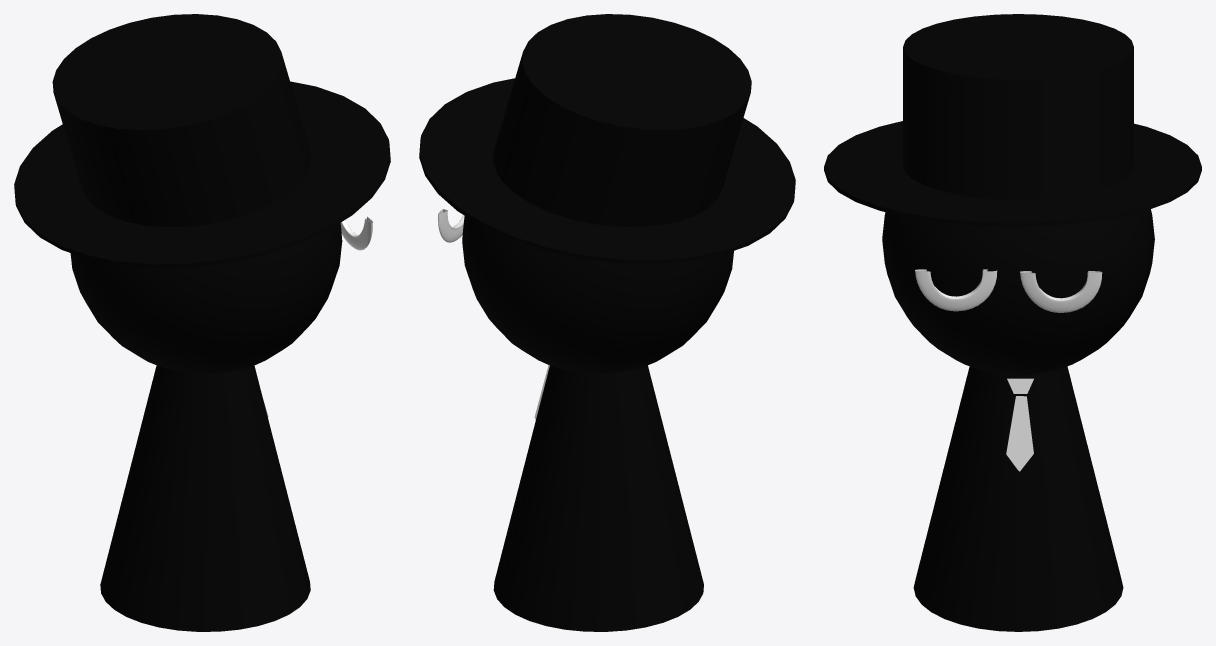
Rendered from sprunki__black.glb.
3 renders of one model, left to right at view 1: azimuth 30°, elevation 25°; view 2: azimuth 150°, elevation 25°; view 3: azimuth 270°, elevation 25°, orthographic.
Size of the model in its own units: 3.57 by 5.66 by 3.6.
Materials: 6 (1 with a texture image).
